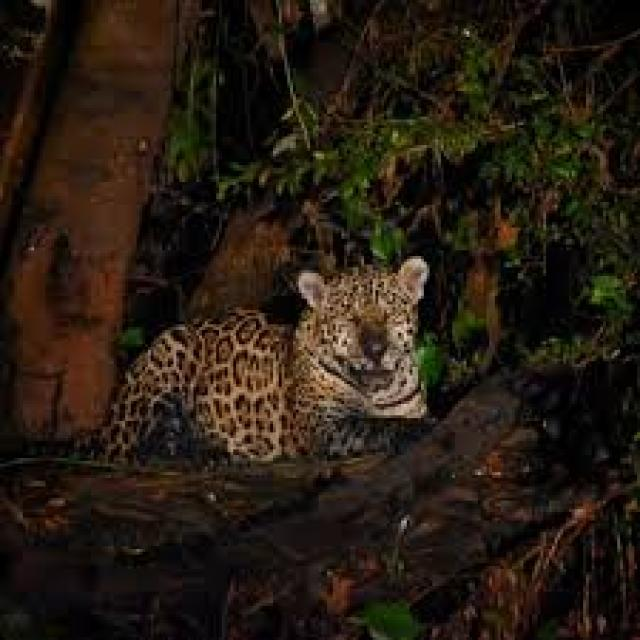Jaguar: (96, 262, 446, 455)
